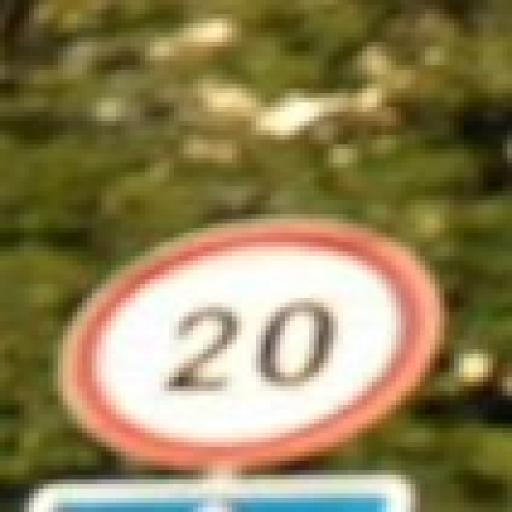traffic_sign: (59, 215, 445, 471)
